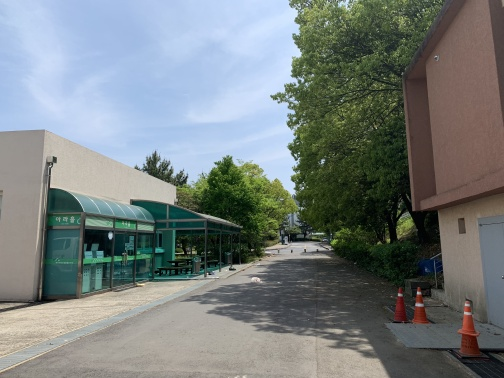Ara Hall: (4, 160, 243, 294)
